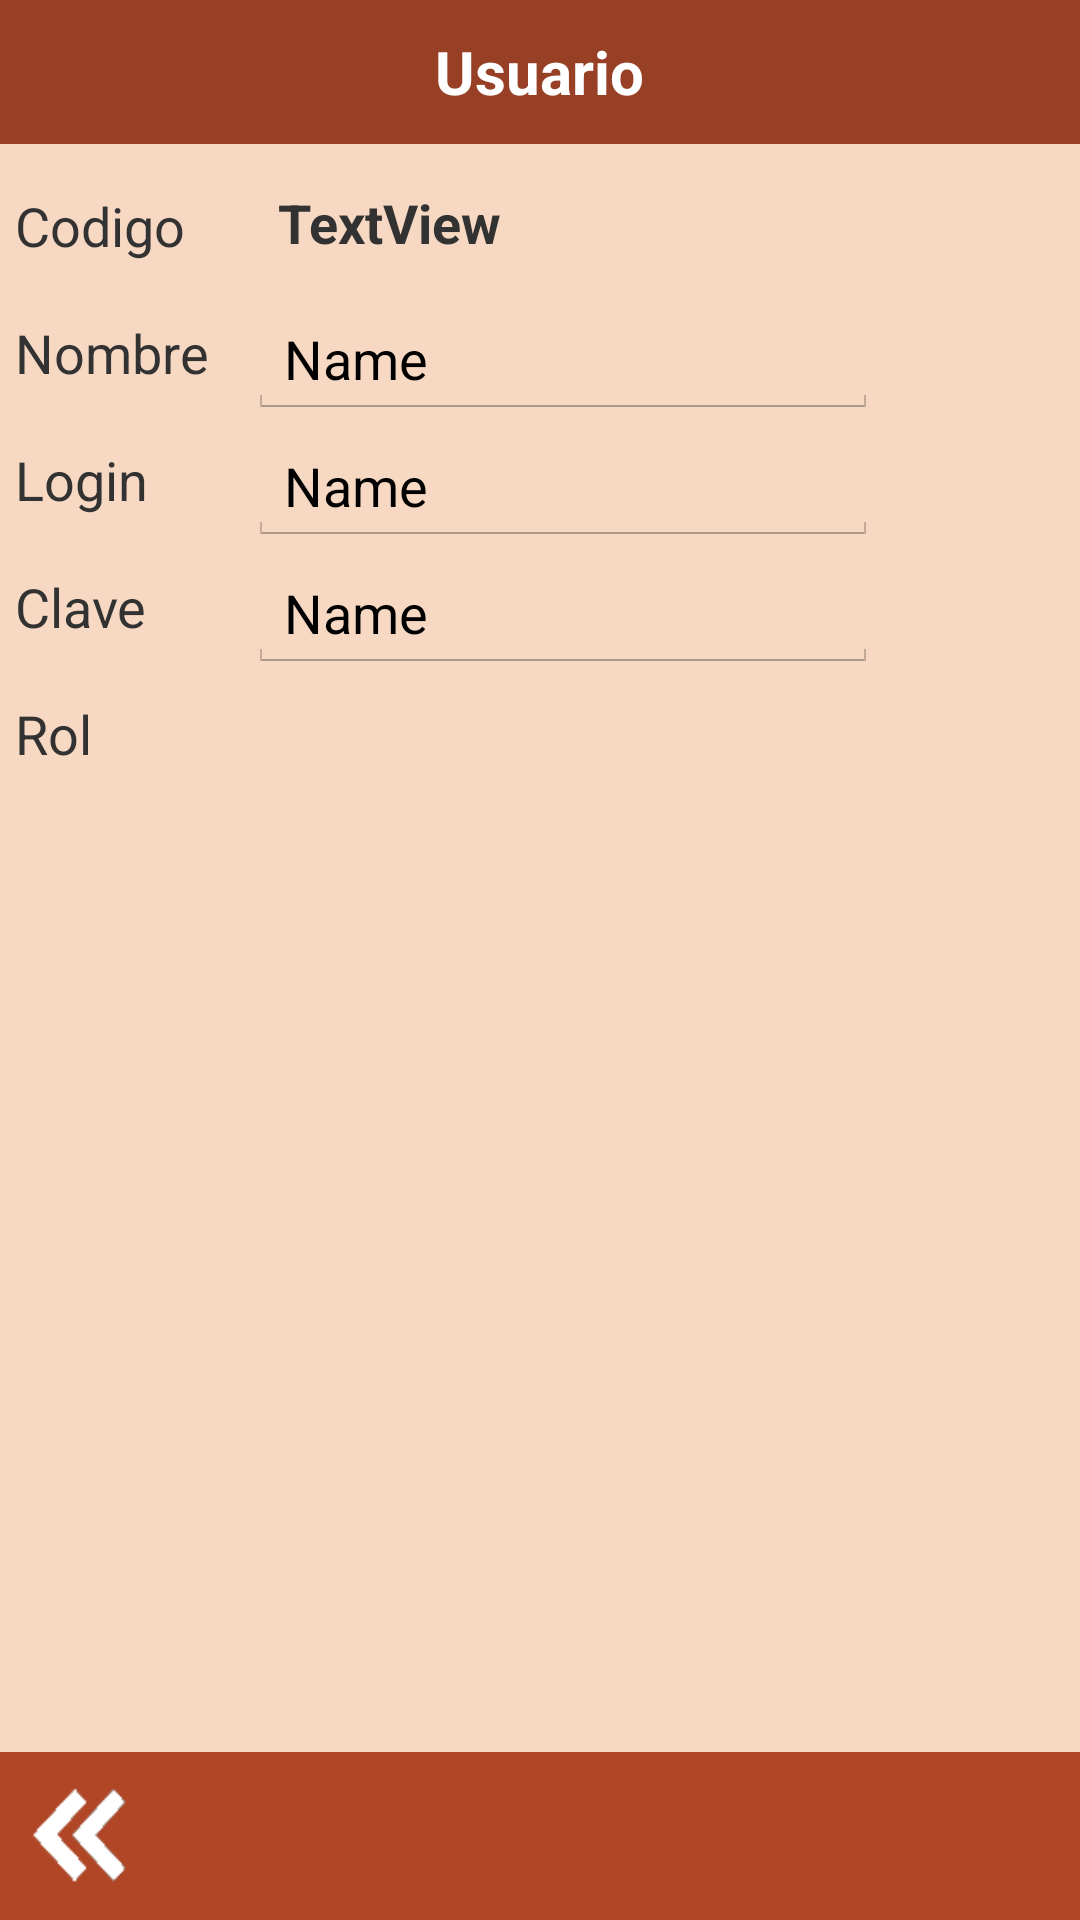

Named icons in this screenshot (1080×1920) and their centers, (x=x, y=y):
arr prev: (x=79, y=1835)
